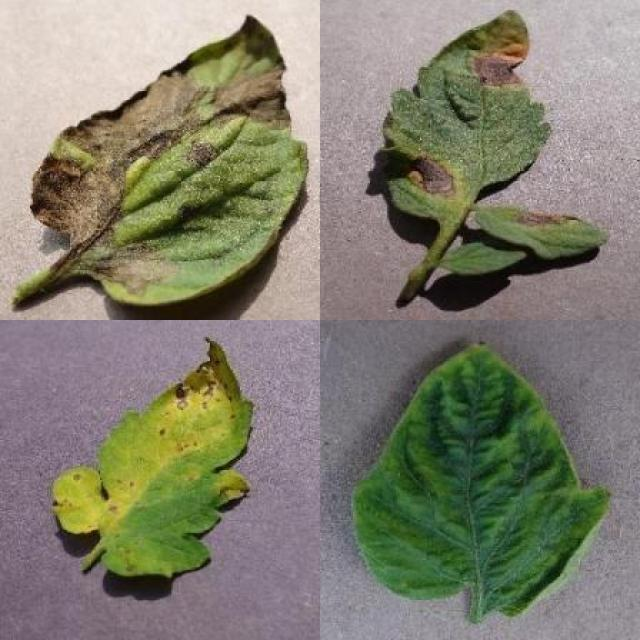Early Blight: (375, 7, 551, 214)
Late Blight: (31, 15, 309, 308)
Septoria: (51, 339, 255, 584)
Yellow Leaf Curl Virus: (352, 336, 608, 618)
